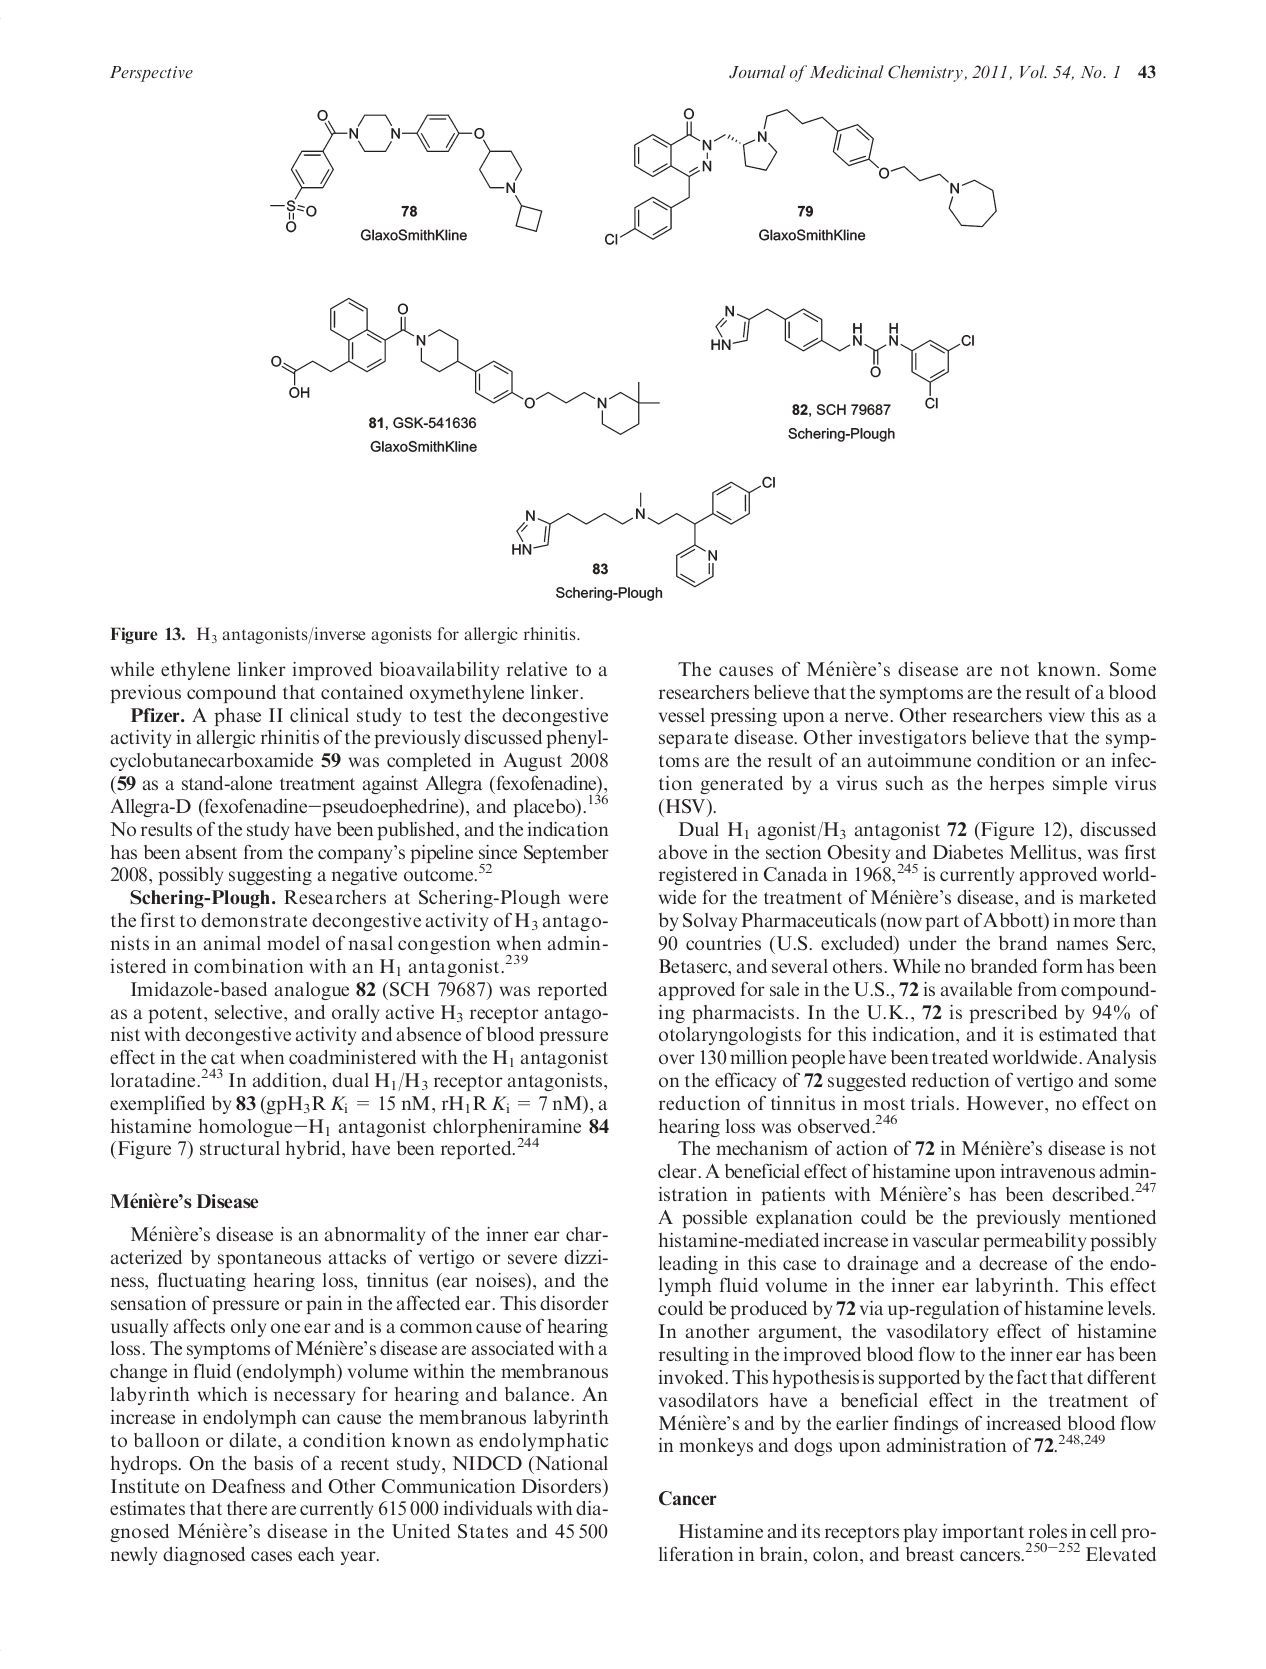exist_molecular: (602, 105, 999, 254), (269, 294, 664, 435), (267, 104, 548, 242), (706, 297, 977, 414), (511, 473, 781, 590)
